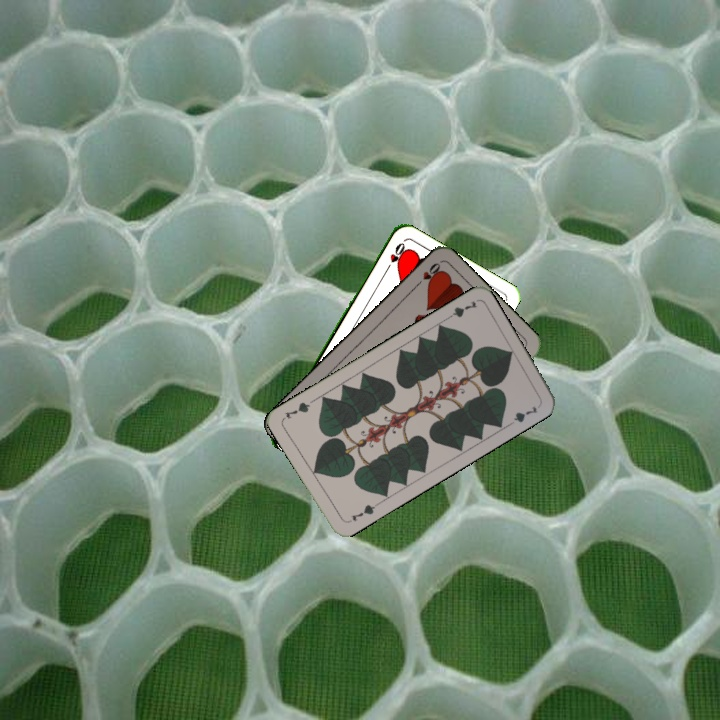G7: (441, 297, 480, 323), (347, 499, 380, 523)
HO: (410, 258, 444, 291), (381, 238, 407, 275)
